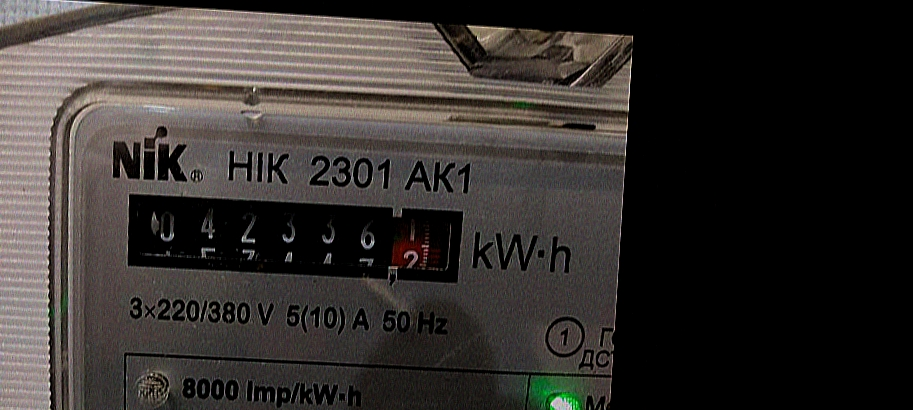0: (157, 208, 179, 244)
1: (405, 214, 420, 244)
2: (238, 209, 260, 246), (401, 248, 421, 270)
3: (279, 207, 300, 246), (317, 210, 339, 247)
4: (198, 203, 220, 241)
6: (356, 215, 380, 251)
screen: (117, 180, 474, 295)
